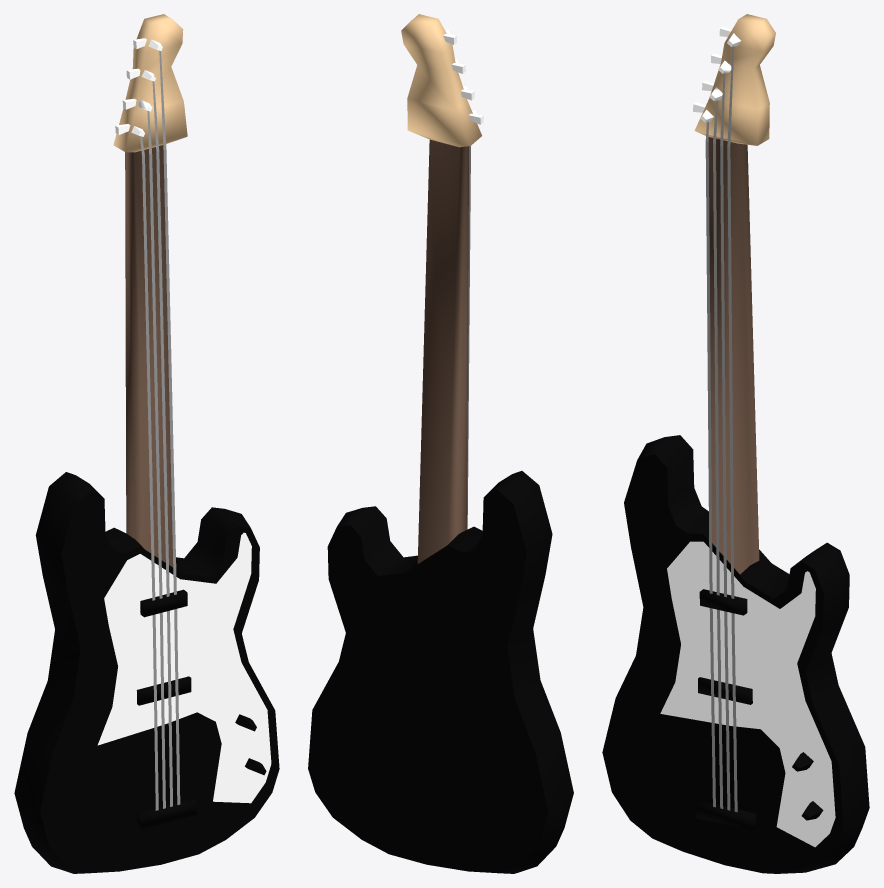
Rendered from GuitarBassBlack.glb.
The picture shows the model from 3 angles, left to right: view 1: azimuth 30°, elevation 25°; view 2: azimuth 150°, elevation 25°; view 3: azimuth 330°, elevation 25°; orthographic projection.
Parts seen in each view (by area): view 1: GuitarBassBlack; view 2: GuitarBassBlack; view 3: GuitarBassBlack.
Part boxes in pixels (box(x1,y1,x2,y2)): GuitarBassBlack: box(14, 14, 279, 873); GuitarBassBlack: box(308, 14, 573, 873); GuitarBassBlack: box(602, 14, 869, 873).
Bounding box in the file's own units: 0.4159 × 1.34 × 0.1052.
1 material, 1 textured.
